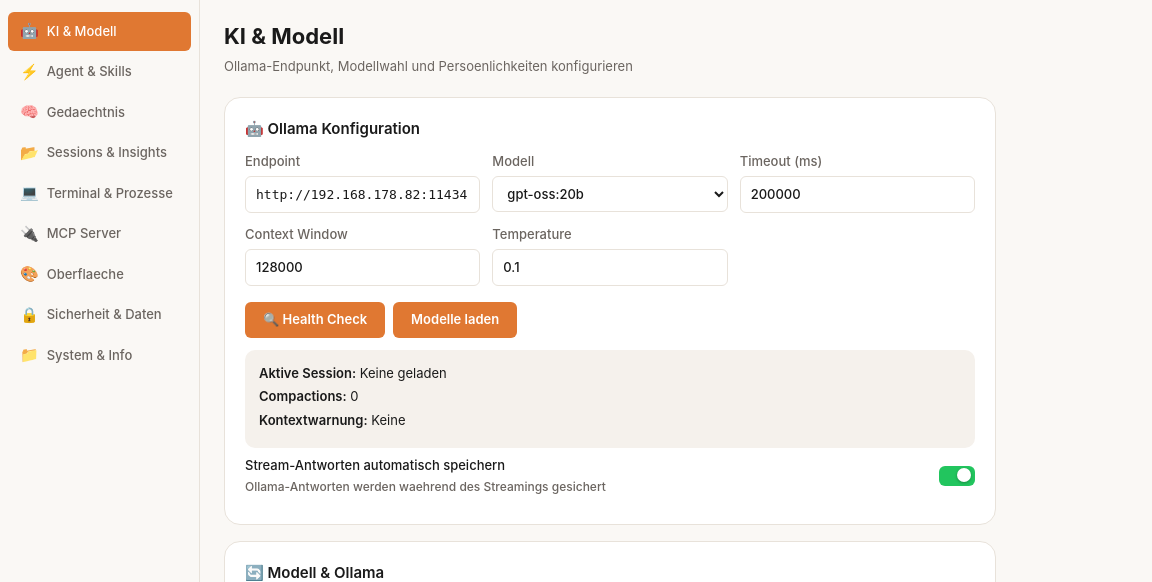
Test case: SettingsView › switches to MCP Server
This screenshot has width=1152, height=582.
What coordinates should you click on to do the following:
click the text "MCP Server"
I would click on:
 (84, 234)
Its box is 47,224 -> 121,244.
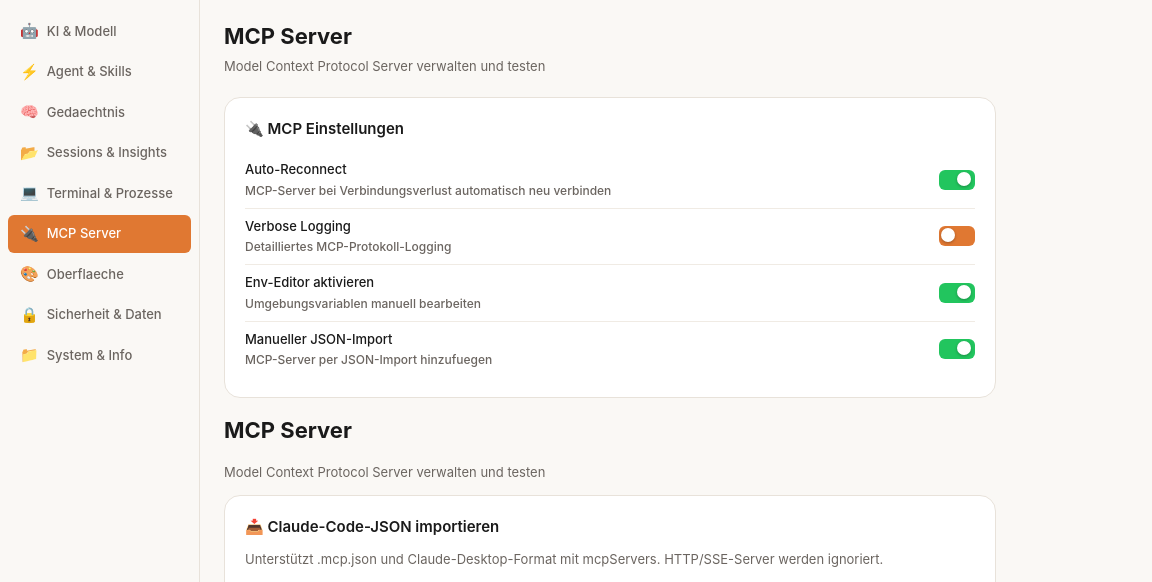
Expected: the text "Auto-Reconnect" is shown, 245,161 -> 347,177
Expected: the text "Verbose Logging" is shown, 245,218 -> 351,234
